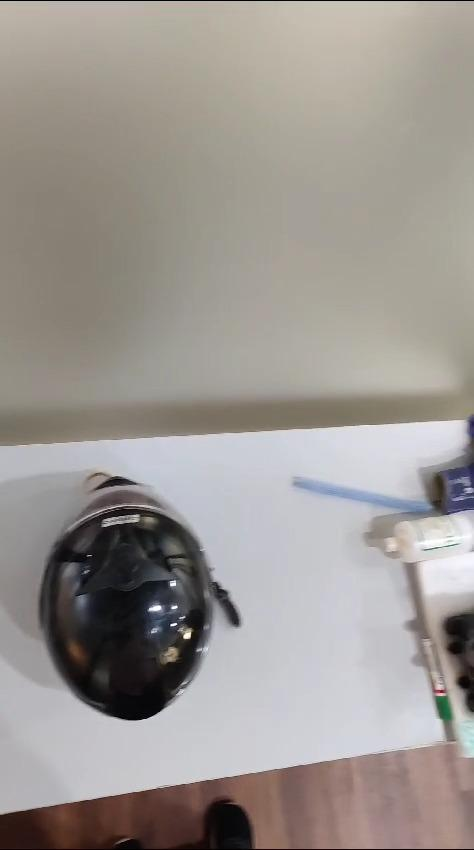Helmet: (40, 473, 240, 719)
